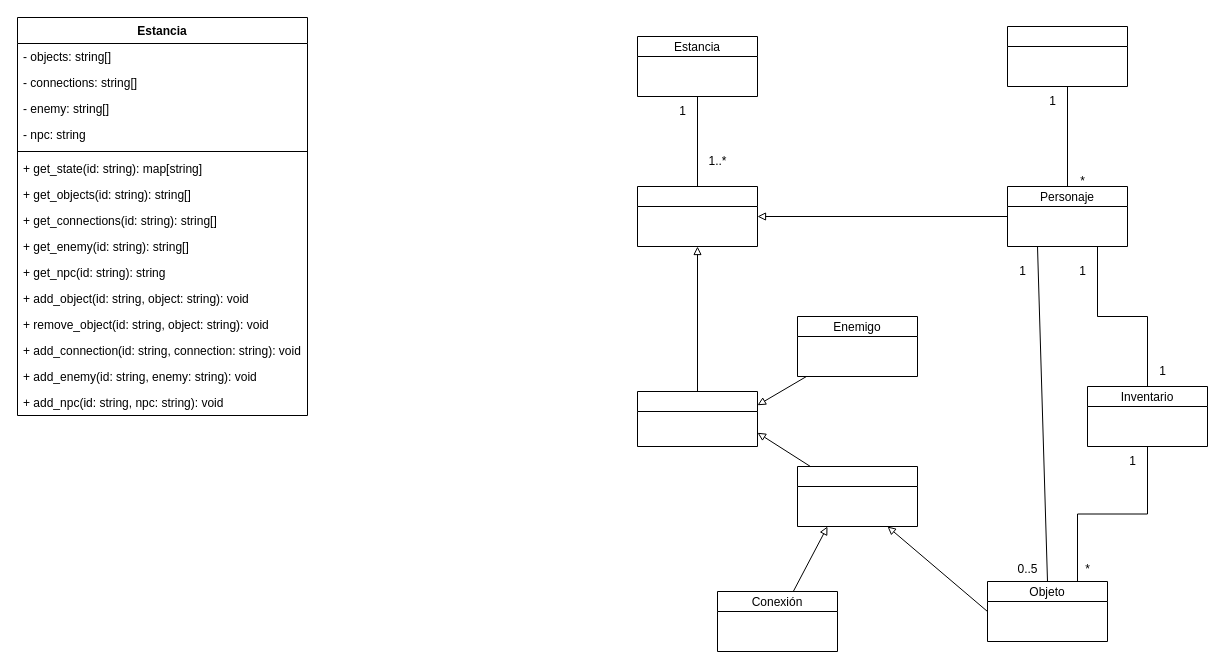
The diagram is 1225 pixels wide and 669 high, and some of its shapes have lost their labels. Here are the shapes that lost their labels. From the top down, the centre of each, then its label:
the point at 1067,56: Usuario
the point at 697,216: Entidad
the point at 697,418: No Jugable
the point at 857,496: NPC
